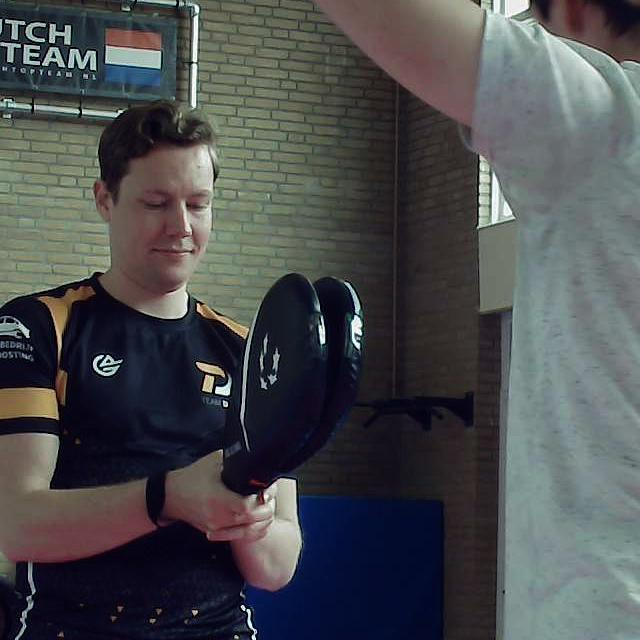paddle: (222, 272, 366, 493)
